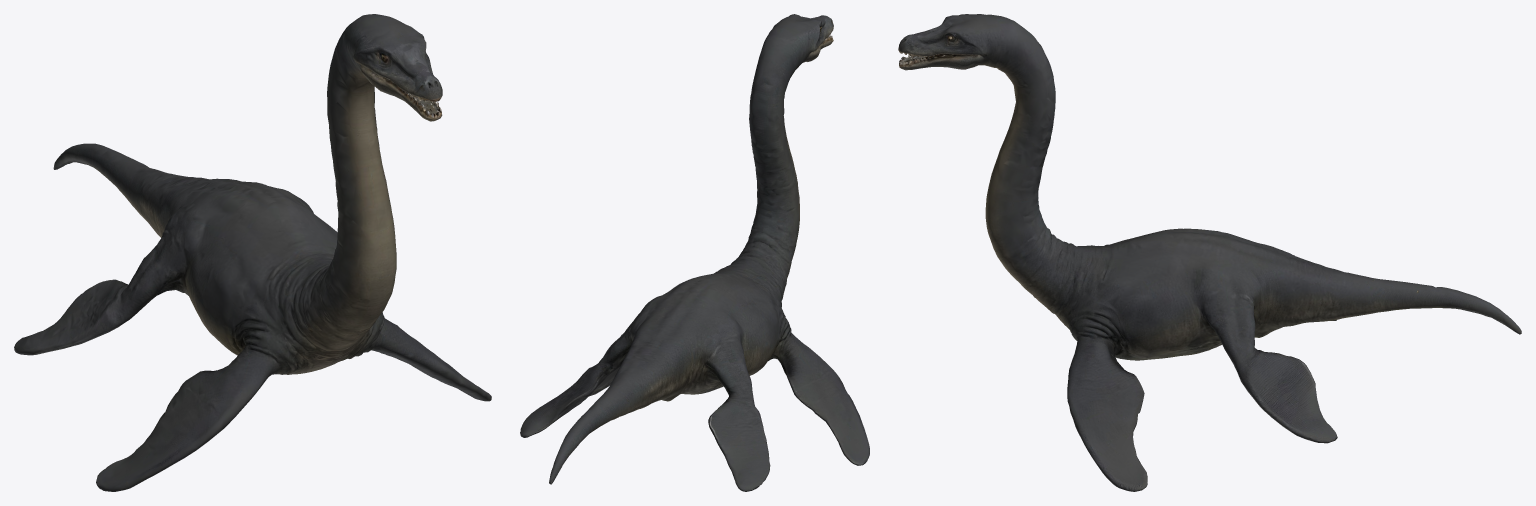
Rendered from plesiosaurus.glb.
The picture shows the model from 3 angles, left to right: view 1: azimuth 30°, elevation 25°; view 2: azimuth 150°, elevation 25°; view 3: azimuth 270°, elevation 25°; orthographic projection. The views are drawn at different scales.
Bounding box in the file's own units: 1.11 × 1.34 × 1.9.
Materials: 1 (1 with a texture image).
